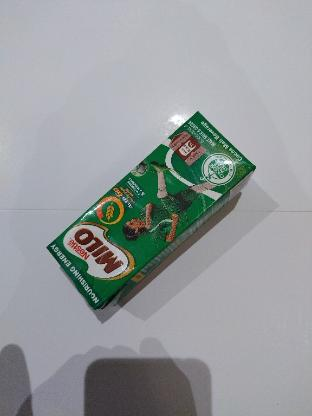Others: (47, 111, 255, 309)
